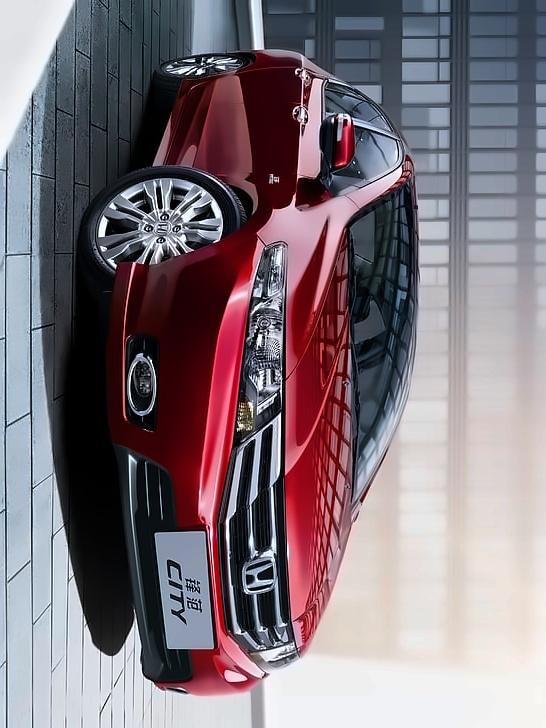Car hood: (260, 188, 354, 658)
Driver-s door - -F-R-: (106, 100, 419, 193)
Fender - -F-R-: (210, 165, 367, 265)
Front bumper: (93, 227, 282, 708)
Headlight - -R-: (233, 238, 288, 442)
Passenger-s door - -R-R-: (151, 59, 408, 147)
Rear light - -R-: (139, 68, 230, 189)
Side mirror - -R-: (320, 109, 354, 188)
